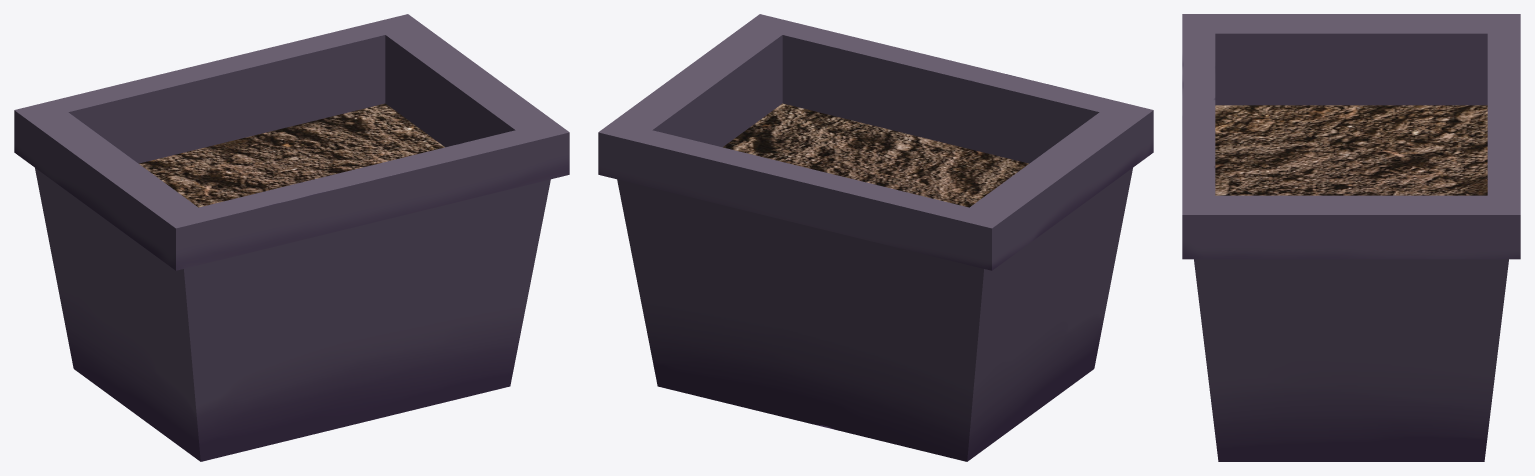
File: Plant_Pot_2.fbx
3 views of the same model, side by side, from view 1: azimuth 30°, elevation 25°; view 2: azimuth 150°, elevation 25°; view 3: azimuth 270°, elevation 25° (orthographic). The views are drawn at different scales.
Visible parts, largest first — view 1: Cube; view 2: Cube; view 3: Cube.
Boxes of the visible parts, <box> form: Cube: <box>14,14,569,461</box>; Cube: <box>598,14,1153,461</box>; Cube: <box>1182,14,1520,461</box>.
Bounding box in the file's own units: 408 × 254 × 290.
Materials: 1 (1 with a texture image).
